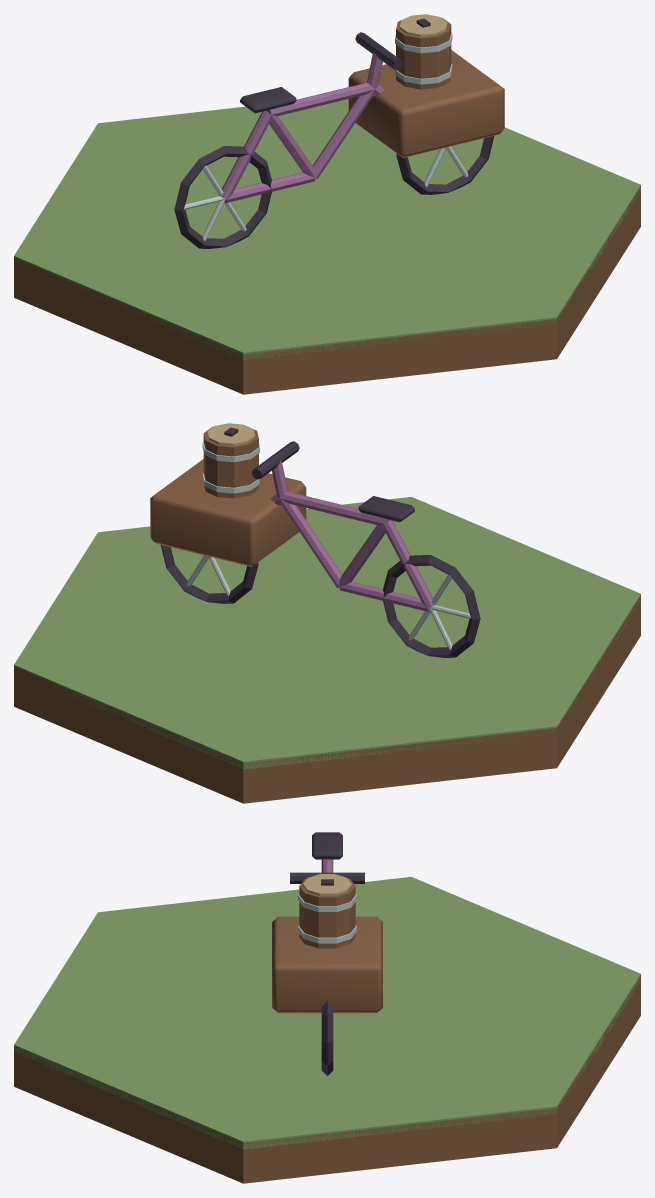
The model's file is cargoBike.glb.
The picture shows the model from 3 angles, top to bottom: view 1: azimuth 30°, elevation 25°; view 2: azimuth 150°, elevation 25°; view 3: azimuth 270°, elevation 25°; orthographic projection.
Visible parts, largest first — view 1: Cone.257, Cone.256, Cube.072, Torus.004, Cone.272, Torus.005, Cone.268, Cone.267, Cone.265, Cone.264, Cube.071, Cone.266 (+2 smaller); view 2: Cone.257, Cone.256, Cube.072, Torus.004, Cone.272, Torus.005, Cone.268, Cone.267, Cone.265, Cone.264, Cube.071, Cone.266 (+2 smaller); view 3: Cone.257, Cone.256, Cube.072, Cone.272, Torus.005, Cube.071, Cone.275, Cone.271.
Part boxes in pixels (x1,y1,x2,y2): Cone.257: (14,99,640,359); Cone.256: (14,187,640,394); Cube.072: (348,50,504,157); Torus.004: (174,146,271,248); Cone.272: (396,17,451,89); Torus.005: (396,136,494,194); Cone.268: (312,90,374,178); Cone.267: (266,82,374,116); Cone.265: (220,111,271,199); Cone.264: (224,172,315,202); Cube.071: (240,87,296,113); Cone.266: (269,115,315,177); Cone.257: (14,497,640,769); Cone.256: (14,596,640,803); Cube.072: (150,459,306,566); Torus.004: (383,555,480,657); Cone.272: (203,426,258,498); Torus.005: (160,545,258,603); Cone.268: (280,499,342,587); Cone.267: (280,491,388,525); Cone.265: (383,520,434,608); Cone.264: (339,581,430,611); Cube.071: (358,496,414,522); Cone.266: (339,524,385,586); Cone.257: (14,877,640,1149); Cone.256: (14,976,640,1183); Cube.072: (272,916,382,1013); Cone.272: (299,878,355,948); Torus.005: (321,1001,333,1075); Cube.071: (312,832,342,859); Cone.275: (303,874,351,895); Cone.271: (290,872,364,883).
Bounding box in the file's own units: 3.67 × 1.4 × 3.67.
